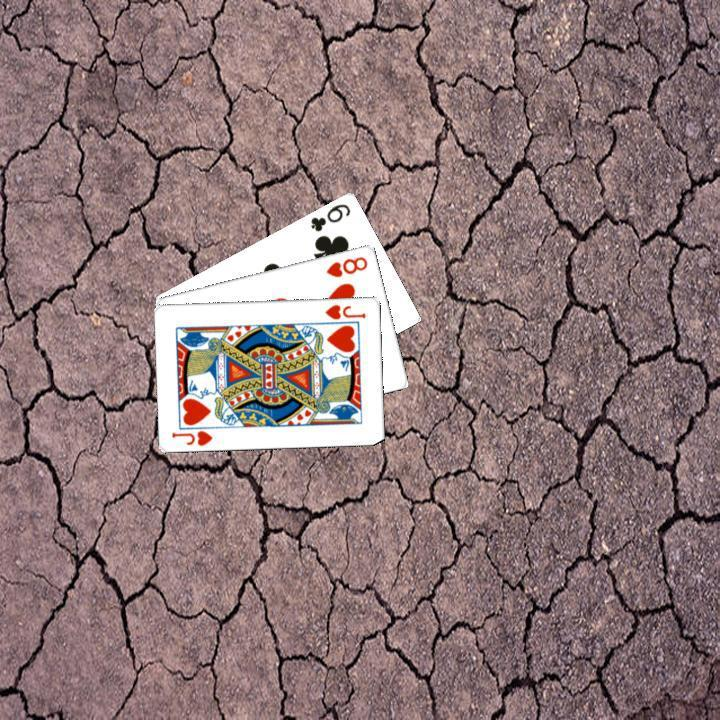6: (306, 199, 353, 233)
8: (322, 252, 370, 279)
J: (321, 300, 368, 321), (168, 426, 215, 447)
